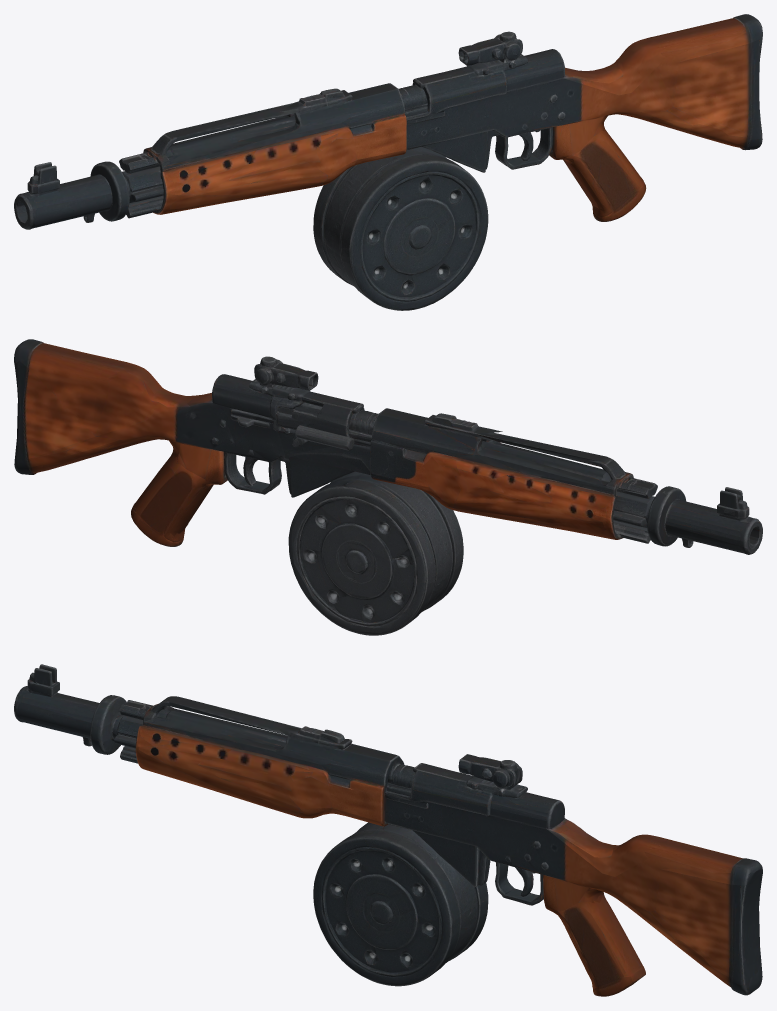
Rendered from ppsh.glb.
3 renders of one model, top to bottom at view 1: azimuth 30°, elevation 25°; view 2: azimuth 150°, elevation 25°; view 3: azimuth 330°, elevation 25°, orthographic.
Bounding box in the file's own units: 1.9 × 0.5815 × 0.1835.
1 material, 1 textured.
